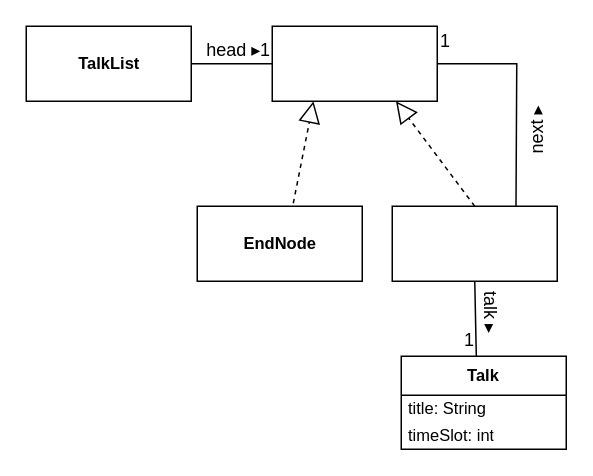
Image size: 593x476. Some labels were removed from this diagram. Here are the shapes that lost their labels. From the top down, the centre of each, then its label:
At (354,63): "«interface» Node".
At (474,243): "InnerNode".
